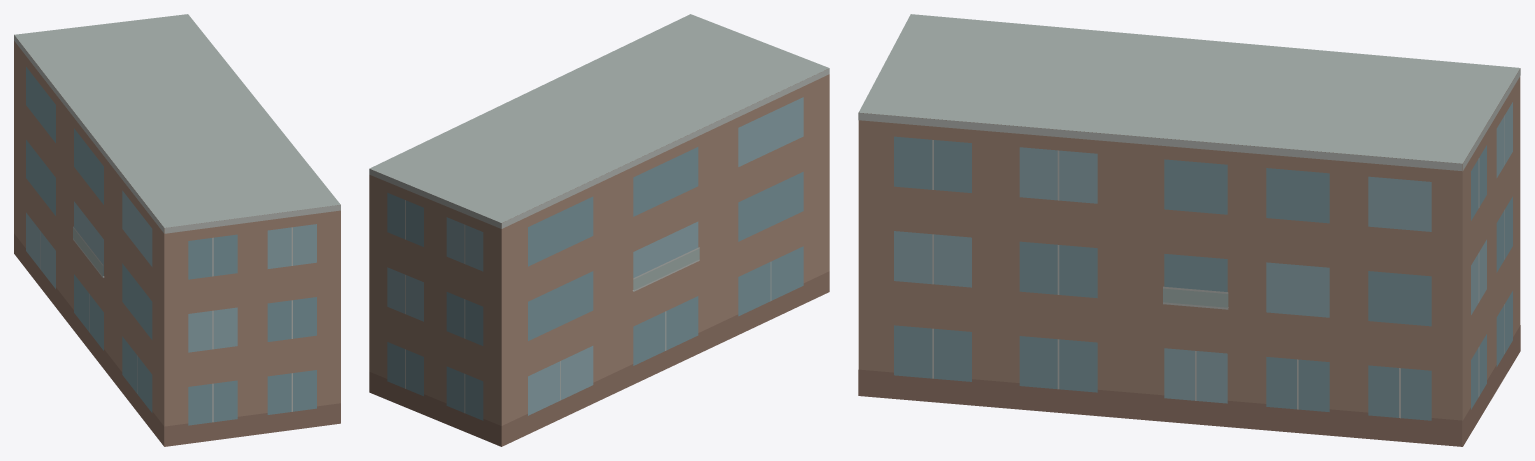
Rendered from survey-upis-32494010.glb.
3 renders of one model, left to right at view 1: azimuth 30°, elevation 25°; view 2: azimuth 150°, elevation 25°; view 3: azimuth 270°, elevation 25°, orthographic. The views are drawn at different scales.
Visible parts, largest first — view 1: survey-upis-32494010.tmp; view 2: survey-upis-32494010.tmp; view 3: survey-upis-32494010.tmp.
Boxes of the visible parts, x1,y1,x2,y2 form: survey-upis-32494010.tmp: (14, 14, 340, 446); survey-upis-32494010.tmp: (369, 14, 829, 446); survey-upis-32494010.tmp: (858, 14, 1520, 446).
Size of the model in its own units: 10.38 by 9.15 by 19.4.
